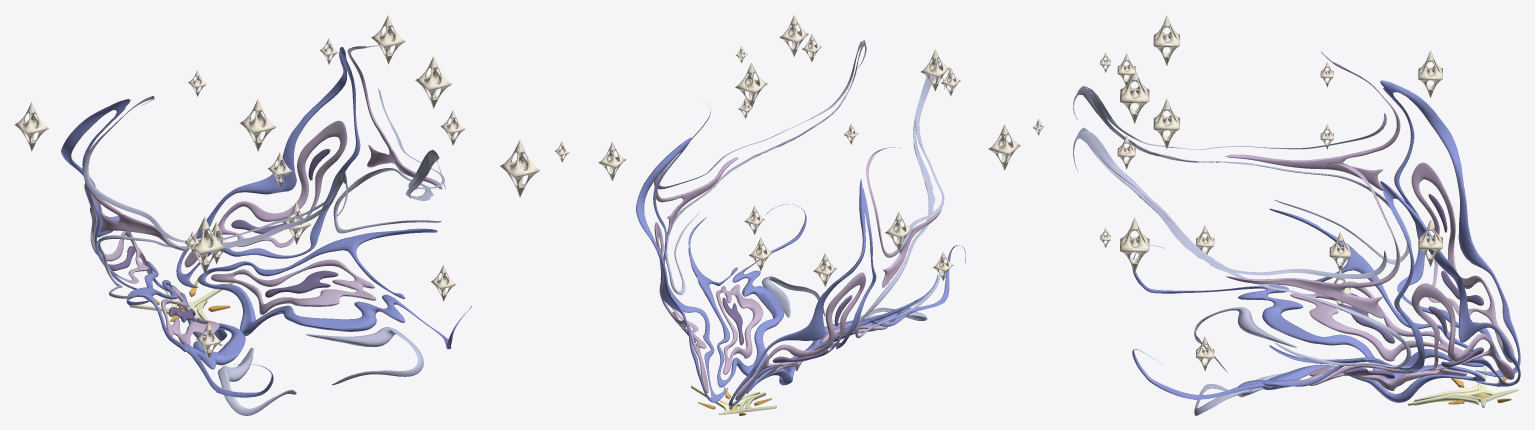
The model's file is 蝴蝶上色20231019 test.fbx.
3 renders of one model, left to right at view 1: azimuth 30°, elevation 25°; view 2: azimuth 150°, elevation 25°; view 3: azimuth 270°, elevation 25°, orthographic. The views are drawn at different scales.
Parts seen in each view (by area): view 1: 3; view 2: 3; view 3: 3.
Part boxes in pixels (x1,y1,x2,y2): 3: (14,14,569,415); 3: (598,14,1044,415); 3: (1073,14,1520,415).
Bounding box in the file's own units: 348 × 316 × 366.
